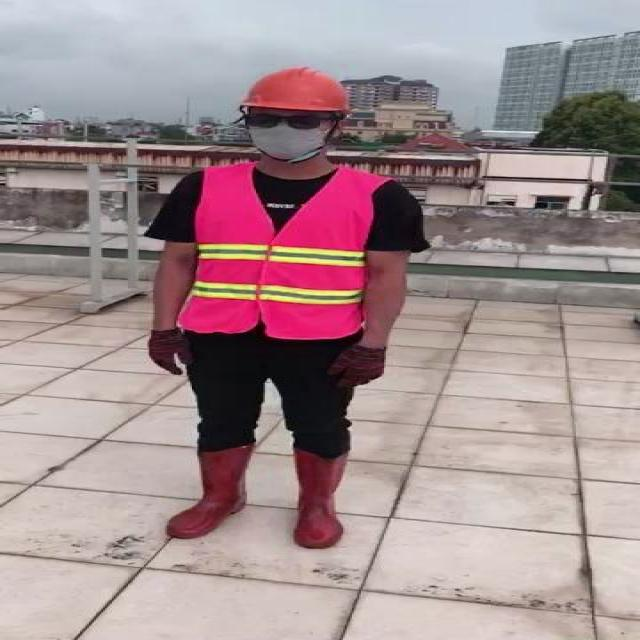boots: (164, 443, 252, 538), (290, 445, 352, 551)
face_mask: (248, 109, 326, 156)
glasses: (244, 107, 330, 135)
hand_glove: (327, 347, 384, 390), (148, 330, 190, 375)
head_helmet: (240, 64, 356, 116)
person: (135, 63, 432, 563)
vest: (178, 165, 378, 337)
